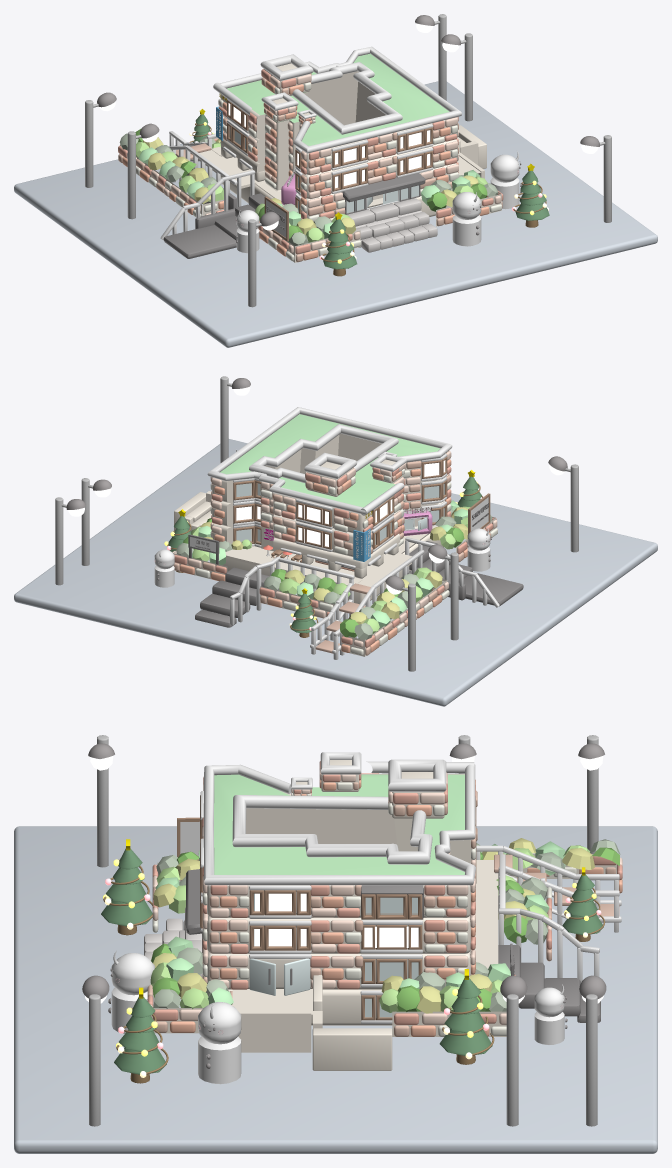
The model's file is christmas-6.gltf.
The picture shows the model from 3 angles, top to bottom: view 1: azimuth 30°, elevation 25°; view 2: azimuth 150°, elevation 25°; view 3: azimuth 270°, elevation 25°; orthographic projection. The views are drawn at different scales.
Parts seen in each view (by area): view 1: 트리.3-연두.2, 트리.3-줄눈 (×2), 트리.3-벽 배경색 (×2), 트리.3-연한 민트색 (×2), 트리.3-은색, 트리.3-Mat.1 (×2), 트리.3-따뜻한 하얀색, 트리.3-계단회색, 트리.3-따뜻한 빨강, 트리.3-Mat, 트리.3-소프트복숭아, 트리.3-포레스트 그린 (+12 smaller); view 2: 트리.3-연두.2, 트리.3-줄눈 (×2), 트리.3-벽 배경색 (×2), 트리.3-연한 민트색 (×2), 트리.3-은색, 트리.3-Mat.1, 트리.3-Mat, 트리.3-따뜻한 빨강, 트리.3-소프트복숭아, 트리.3-라이트 테라코타, 트리.3-크리미 베이지, 트리.3-주황 (+11 smaller); view 3: 트리.3-연두.2, 트리.3-줄눈 (×2), 트리.3-벽 배경색 (×2), 트리.3-연한 민트색 (×2), 트리.3-포레스트 그린, 트리.3-은색, 트리.3-따뜻한 하얀색, 트리.3-따뜻한 빨강, 트리.3-Mat, 트리.3-소프트복숭아, 트리.3-Mat.1 (×2), 트리.3-연한초록 (+12 smaller).
Part boxes in pixels (x1,y1,x2,y2): 트리.3-연두.2: [14, 81, 657, 347]; 트리.3-줄눈 (×2): [160, 46, 461, 240]; 트리.3-벽 배경색 (×2): [120, 55, 500, 262]; 트리.3-연한 민트색 (×2): [138, 54, 480, 238]; 트리.3-은색: [85, 14, 611, 307]; 트리.3-Mat.1 (×2): [163, 169, 425, 258]; 트리.3-따뜻한 하얀색: [236, 151, 522, 253]; 트리.3-계단회색: [346, 198, 437, 252]; 트리.3-따뜻한 빨강: [118, 69, 503, 254]; 트리.3-Mat: [227, 100, 432, 241]; 트리.3-소프트복숭아: [127, 74, 500, 253]; 트리.3-포레스트 그린: [193, 114, 549, 269]; 트리.3-연두.2: [14, 439, 657, 706]; 트리.3-줄눈 (×2): [190, 407, 499, 659]; 트리.3-벽 배경색 (×2): [173, 433, 495, 656]; 트리.3-연한 민트색 (×2): [198, 414, 467, 629]; 트리.3-은색: [55, 376, 578, 671]; 트리.3-Mat.1: [188, 503, 523, 627]; 트리.3-Mat: [233, 457, 490, 549]; 트리.3-따뜻한 빨강: [174, 450, 496, 647]; 트리.3-소프트복숭아: [172, 451, 497, 647]; 트리.3-라이트 테라코타: [173, 461, 485, 655]; 트리.3-크리미 베이지: [195, 469, 497, 655]; 트리.3-주황: [179, 459, 490, 652]; 트리.3-연두.2: [14, 826, 657, 1153]; 트리.3-줄눈 (×2): [180, 752, 621, 1023]; 트리.3-벽 배경색 (×2): [152, 760, 616, 1070]; 트리.3-연한 민트색 (×2): [155, 774, 565, 1004]; 트리.3-포레스트 그린: [101, 848, 603, 1074]; 트리.3-은색: [89, 735, 598, 1126]; 트리.3-따뜻한 하얀색: [108, 951, 567, 1084]; 트리.3-따뜻한 빨강: [147, 761, 622, 1024]; 트리.3-Mat: [177, 795, 476, 1020]; 트리.3-소프트복숭아: [151, 769, 622, 1024]; 트리.3-Mat.1 (×2): [186, 869, 600, 1022]; 트리.3-연한초록: [153, 839, 620, 1011].
Bounding box in the file's own units: 569 × 177 × 488.
